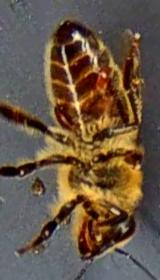varroa_mite: (83, 58, 117, 94)
